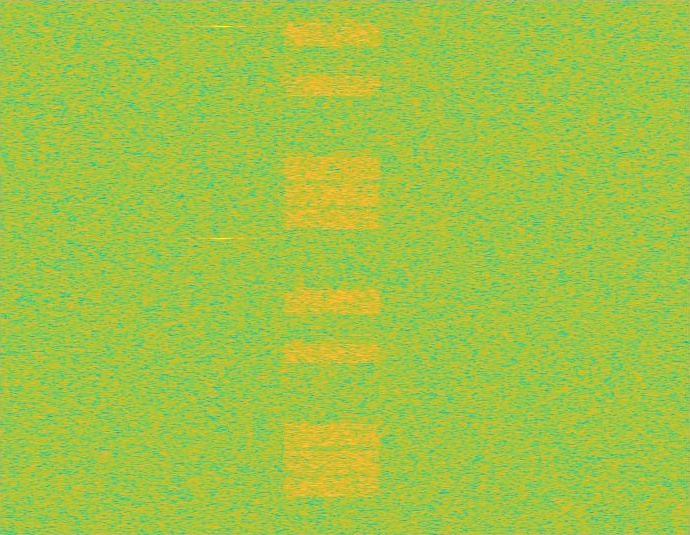LTE: (280, 0, 384, 534)
Radar: (215, 0, 229, 534)
